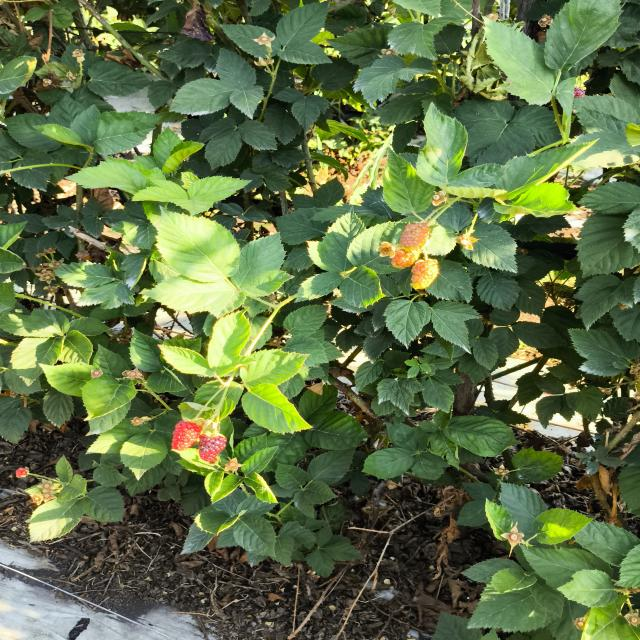naranja: (172, 420, 202, 451), (411, 258, 439, 290), (400, 222, 431, 250), (199, 435, 227, 462), (391, 246, 419, 269)
